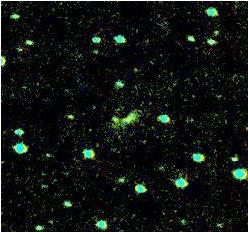star: (199, 15, 229, 45)
